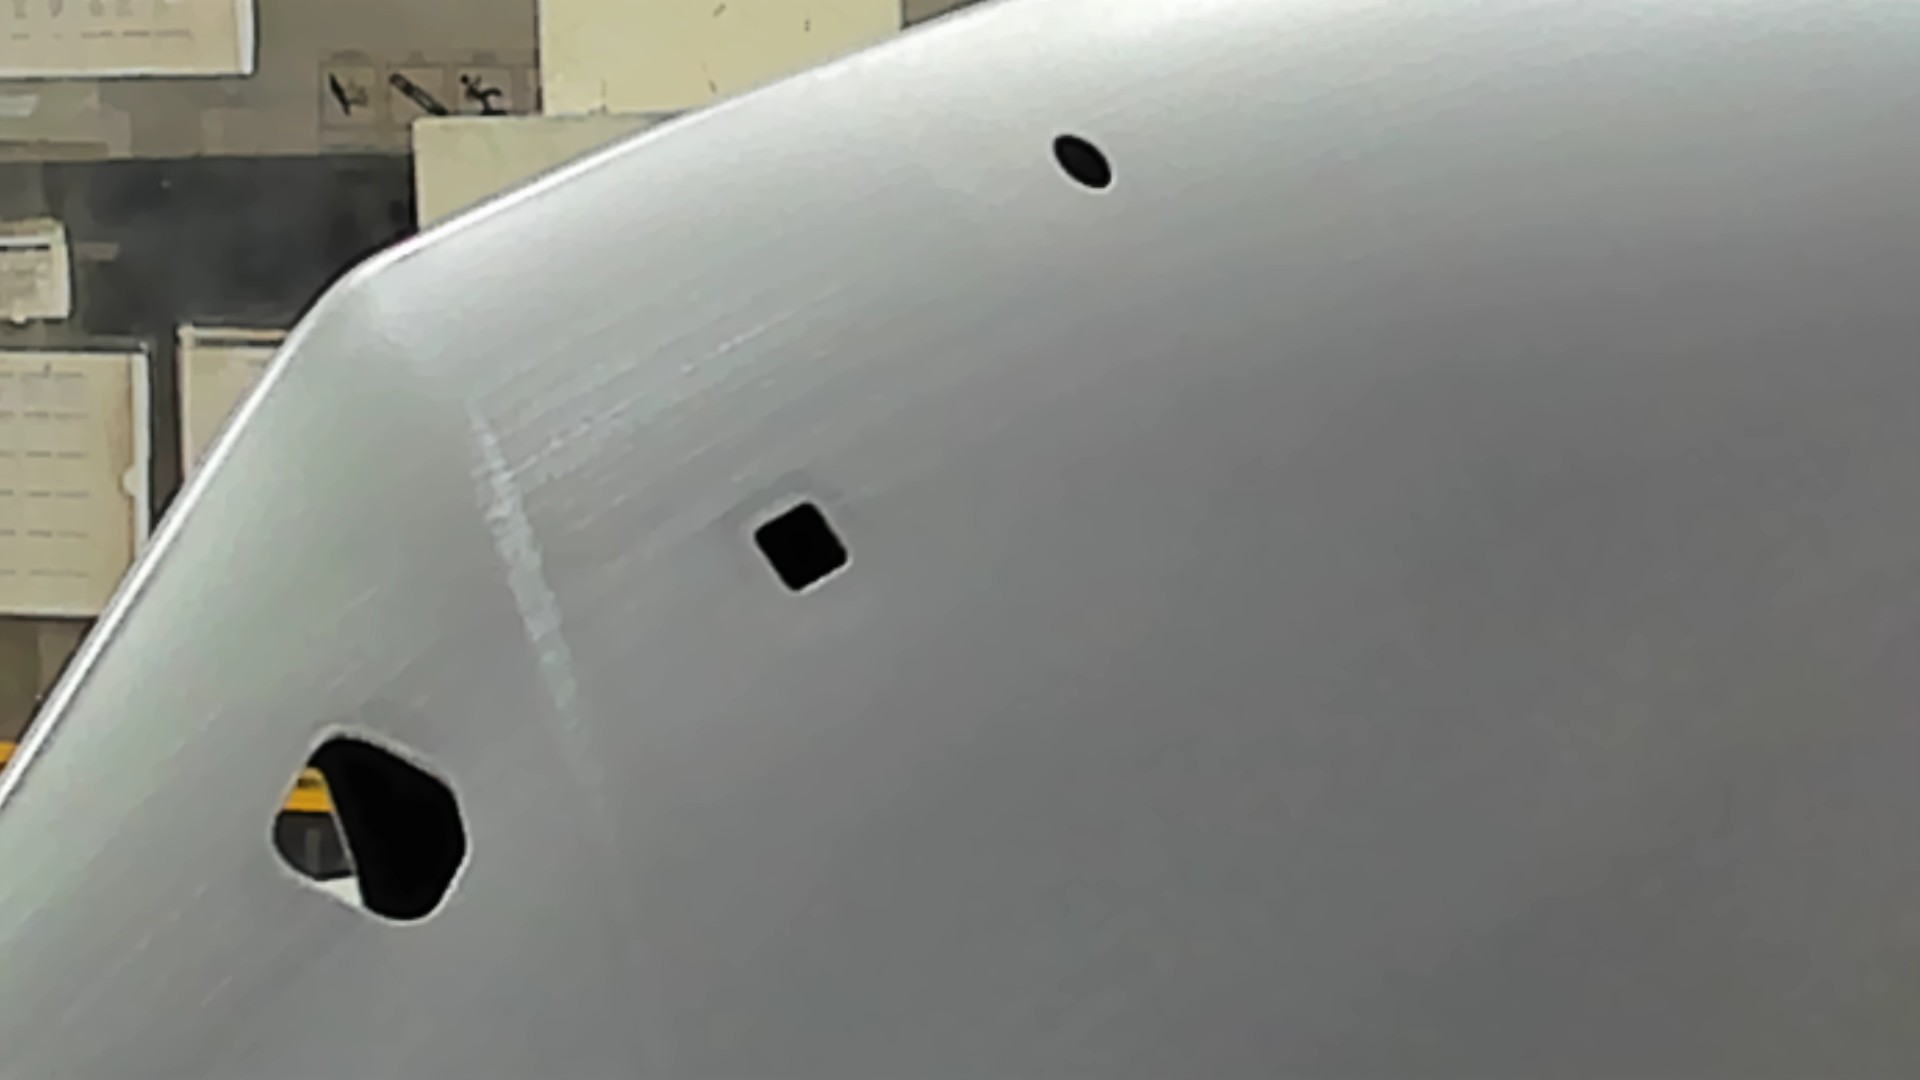chico: (1047, 127, 1118, 194)
grande: (264, 724, 473, 934)
mediano: (750, 496, 855, 597)
